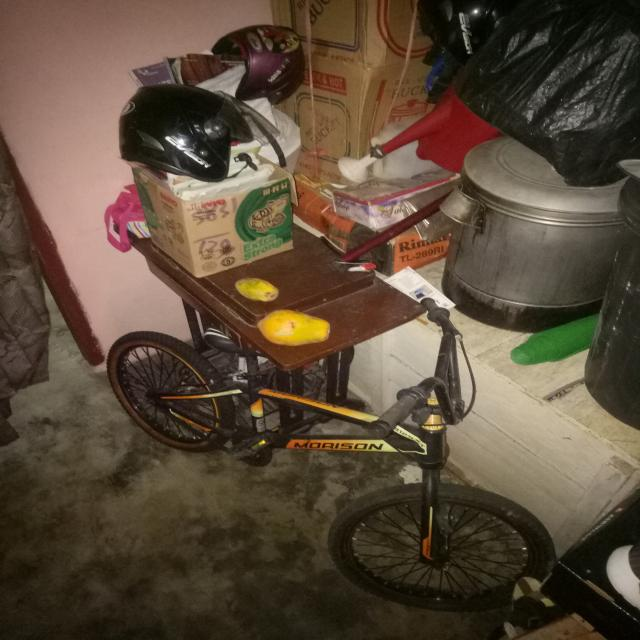Pepaya rippen: (250, 308, 339, 344), (231, 278, 286, 302)
